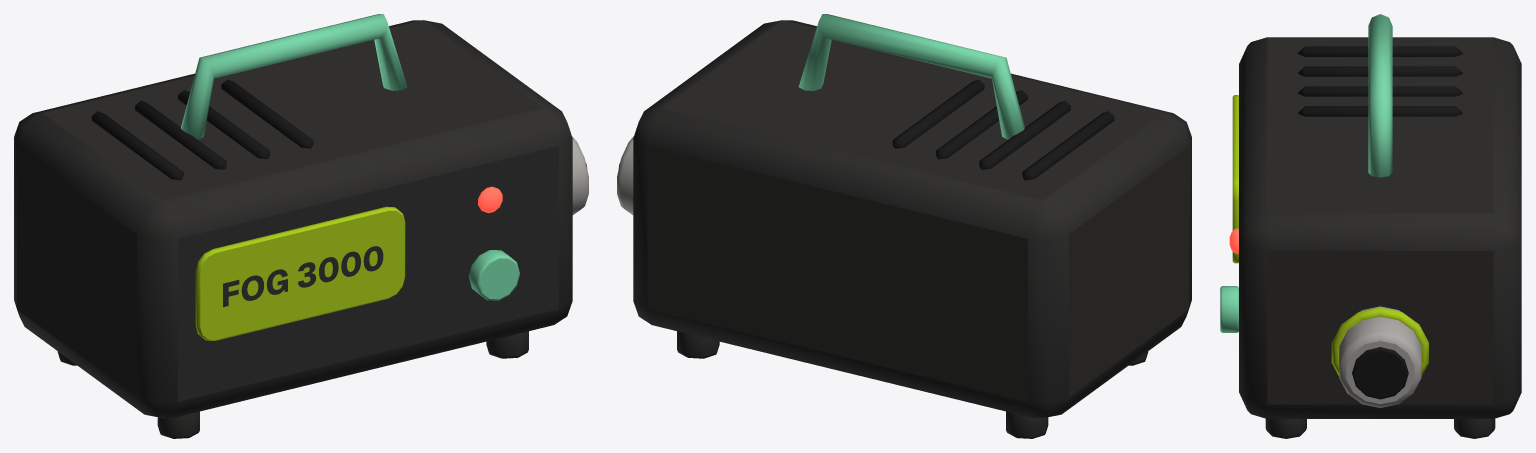
The model's file is smoke-machine.glb.
3 views of the same model, side by side, from view 1: azimuth 30°, elevation 25°; view 2: azimuth 150°, elevation 25°; view 3: azimuth 270°, elevation 25° (orthographic). The views are drawn at different scales.
Parts seen in each view (by area): view 1: smoke-machine; view 2: smoke-machine; view 3: smoke-machine.
Part boxes in pixels (box(x1,y1,x2,y2)): smoke-machine: box(14, 14, 588, 438); smoke-machine: box(617, 14, 1191, 438); smoke-machine: box(1220, 14, 1521, 438).
Size of the model in its own units: 0.575 by 0.3522 by 0.32.
